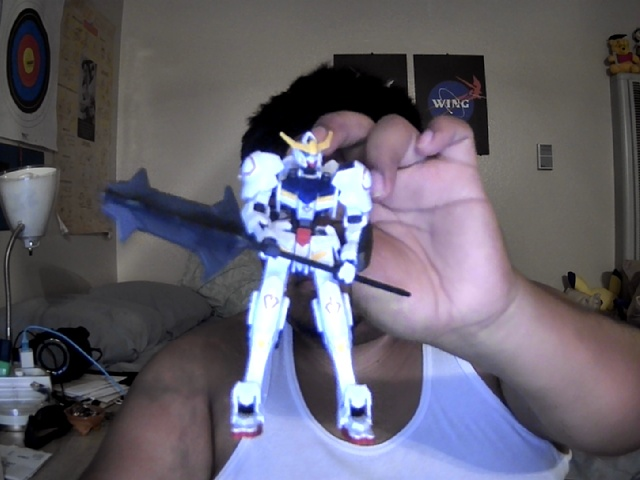Barbatos: (96, 130, 413, 445)
